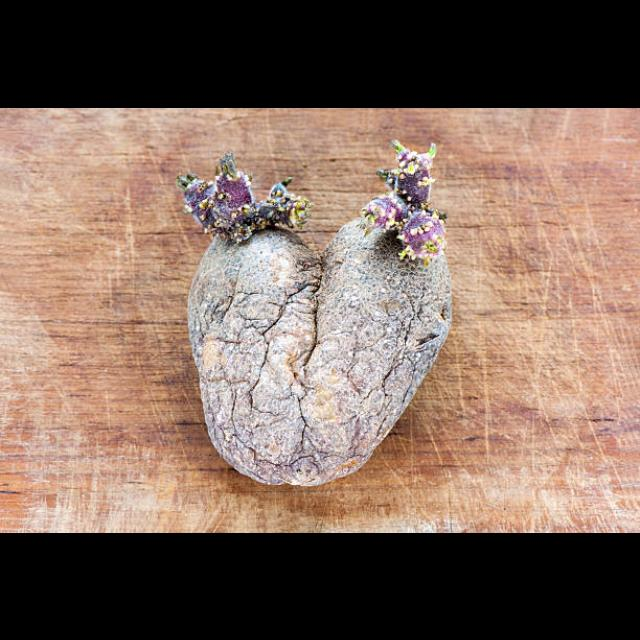Sprouted potato: (158, 126, 464, 494)
